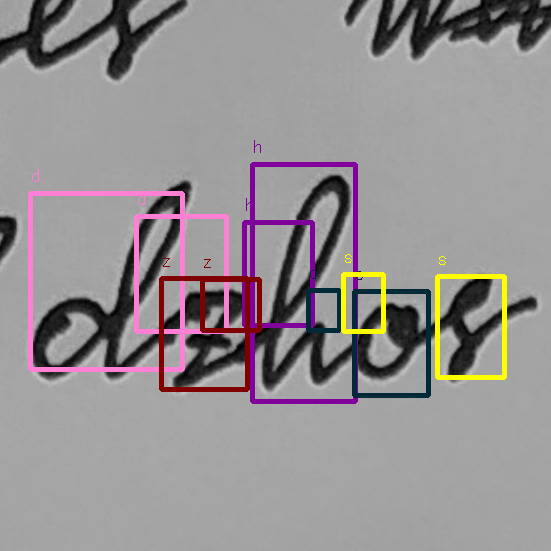d: (26, 176, 195, 388)
h: (256, 169, 352, 395)
o: (353, 292, 425, 388)
s: (431, 270, 504, 386)
z: (159, 282, 250, 395)
